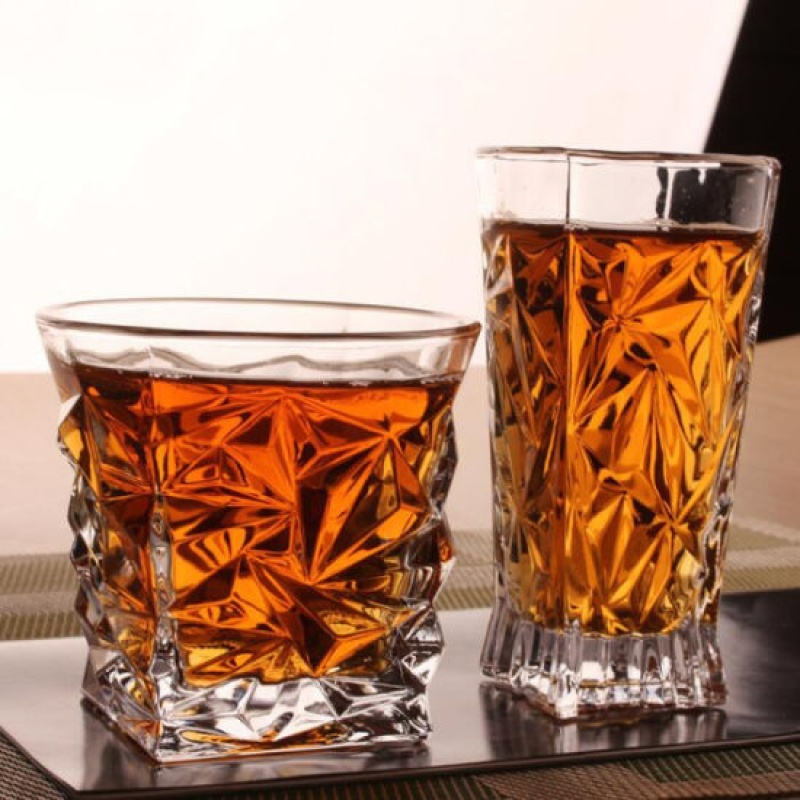whiskey: (34, 296, 473, 755), (477, 139, 778, 726)
